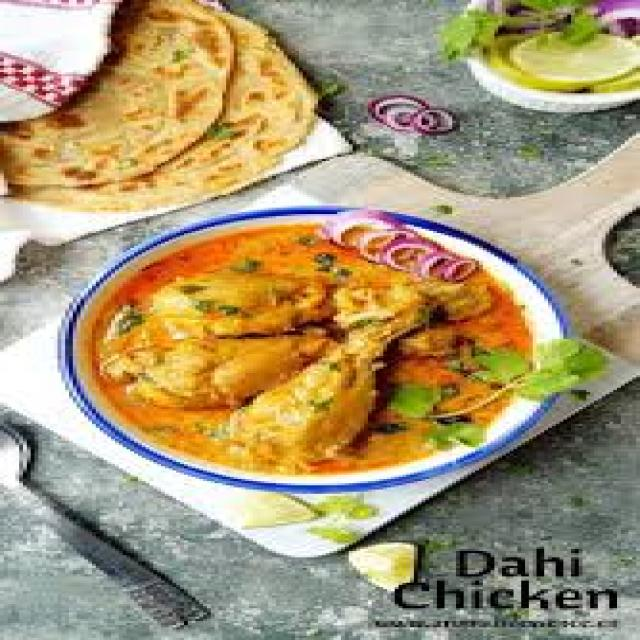Frango: (111, 193, 533, 477), (100, 222, 544, 486)
